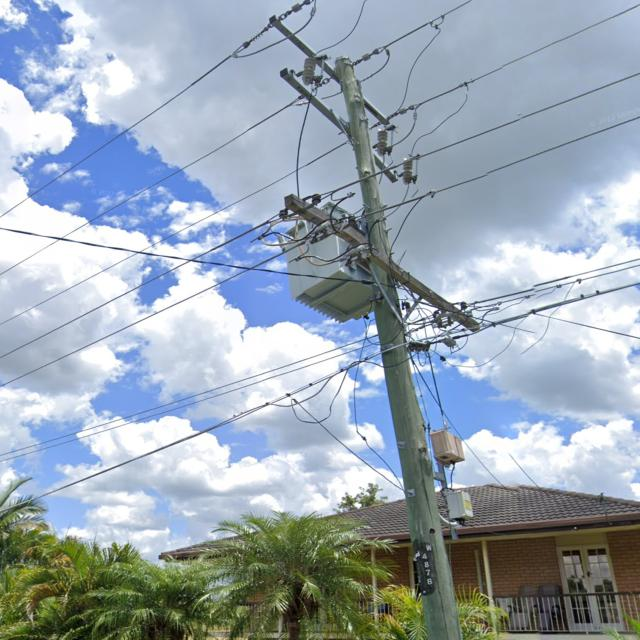HV-transmission: (230, 0, 420, 185)
LV link: (251, 216, 337, 247), (289, 242, 378, 266)
crossarm: (283, 194, 482, 333), (278, 68, 401, 182), (267, 14, 390, 127)
timber-pole: (331, 56, 463, 640)
transformer: (276, 214, 379, 324)
